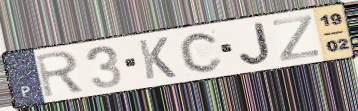3: (85, 45, 123, 89)
C: (178, 30, 226, 74)
J: (237, 20, 273, 66)
K: (136, 35, 179, 81)
R: (33, 49, 86, 100)
Z: (271, 13, 321, 63)
